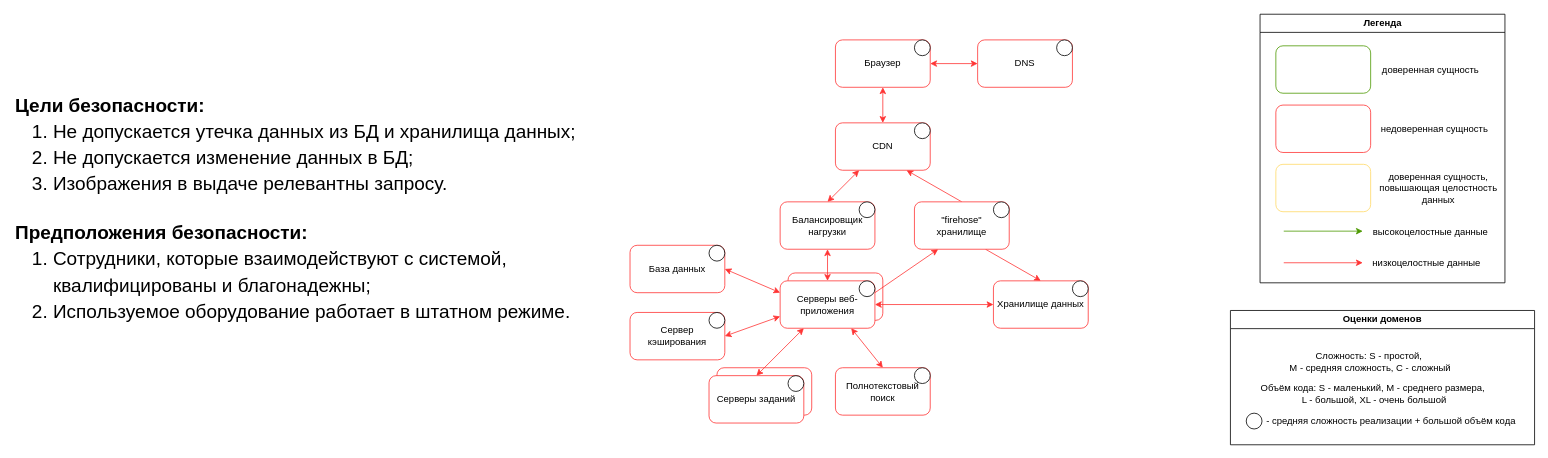
Some shapes in this 1548 by 458 pixel diagram are drawn without their labels. Here are the shapes that lost their labels. From the top down, the centre of each, then its label:
At pixel 922 375: "MM".
At pixel 1253 420: "ML".
